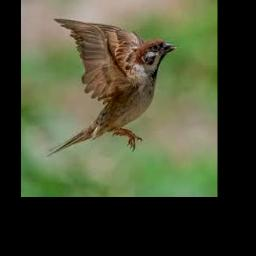Sparrow: (46, 18, 178, 156)
